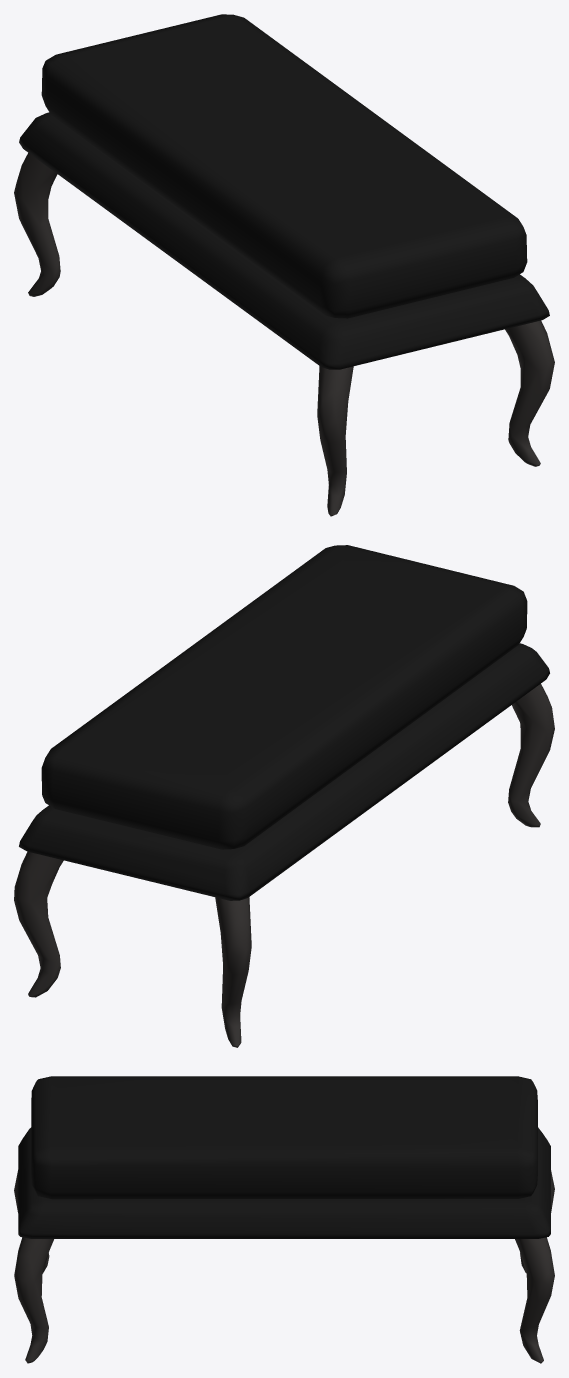
Rendered from footstool_01_black.fbx.
3 renders of one model, top to bottom at view 1: azimuth 30°, elevation 25°; view 2: azimuth 150°, elevation 25°; view 3: azimuth 270°, elevation 25°, orthographic. The views are drawn at different scales.
Visible parts, largest first — view 1: footstool_01_black; view 2: footstool_01_black; view 3: footstool_01_black.
Boxes of the visible parts, left/top/right/bottom form: footstool_01_black: left=14, top=14, right=554, bottom=516; footstool_01_black: left=14, top=545, right=554, bottom=1047; footstool_01_black: left=14, top=1076, right=554, bottom=1363.
Size of the model in its own units: 46.53 by 46.52 by 109.
2 materials, 2 textured.
